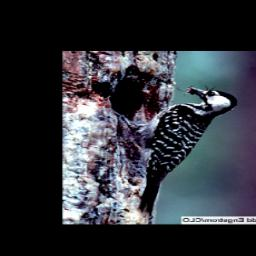Woodpecker: (125, 85, 239, 213)
